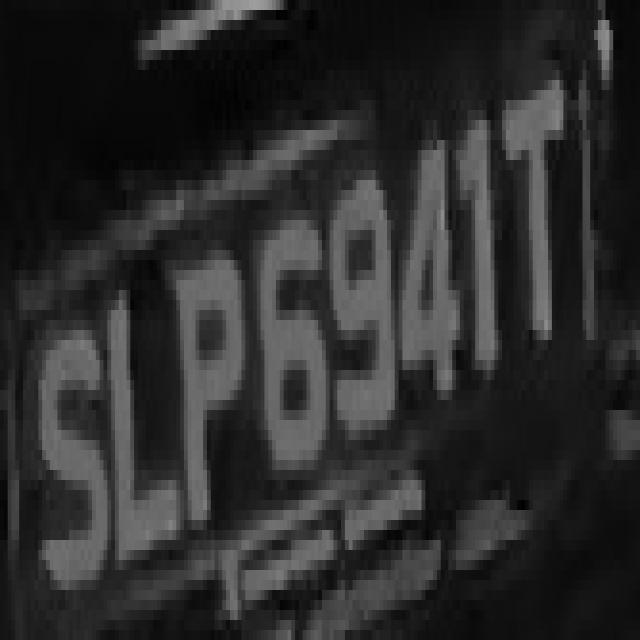1: (460, 100, 506, 430)
4: (387, 100, 464, 450)
6: (249, 190, 326, 510)
9: (322, 160, 398, 500)
L: (107, 270, 184, 560)
P: (180, 220, 257, 520)
S: (34, 300, 108, 610)
T: (479, 50, 579, 330)
